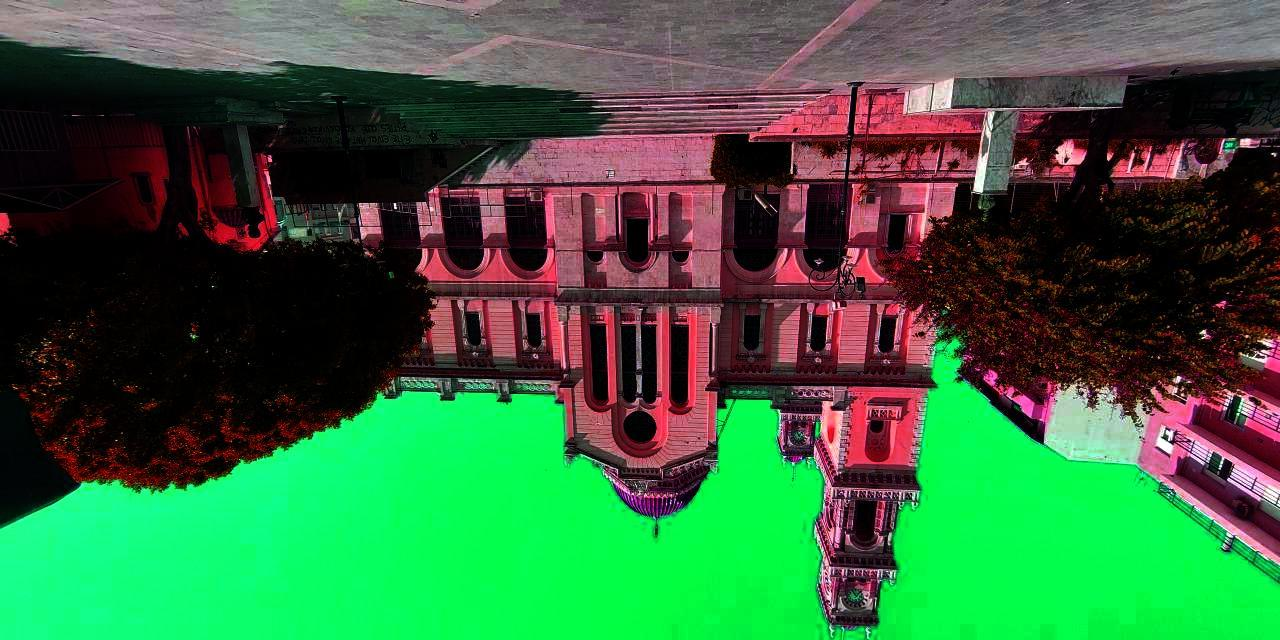Agios Minas: (356, 182, 956, 640)
